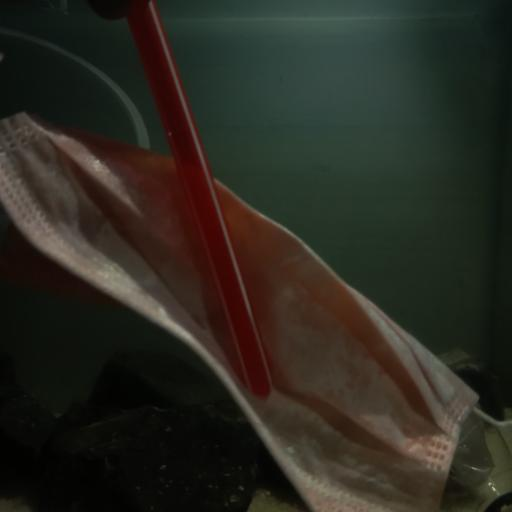mask: (0, 107, 512, 512)
plastic_bottle: (439, 404, 512, 512)
plastic_cup: (0, 28, 150, 389)
plastic_straw: (122, 0, 274, 398)
